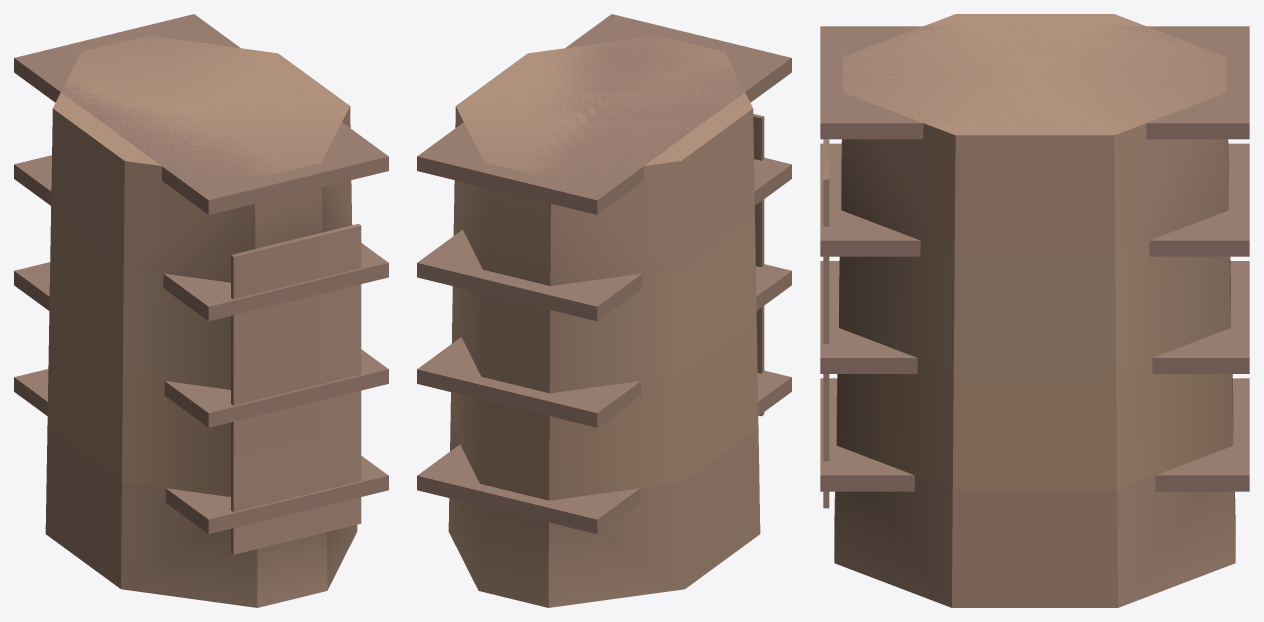
The model's file is span_pier.glb.
The picture shows the model from 3 angles, left to right: view 1: azimuth 30°, elevation 25°; view 2: azimuth 150°, elevation 25°; view 3: azimuth 270°, elevation 25°; orthographic projection. The views are drawn at different scales.
Parts seen in each view (by area): view 1: span_pier; view 2: span_pier; view 3: span_pier.
Boxes of the visible parts, bbox=[...] form: span_pier: bbox=[14, 14, 388, 607]; span_pier: bbox=[417, 14, 791, 607]; span_pier: bbox=[820, 14, 1249, 607].
Size of the model in its own units: 4.07 by 7 by 5.8.
